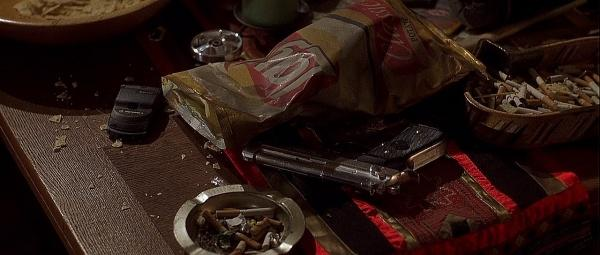Gun: (243, 119, 448, 196)
